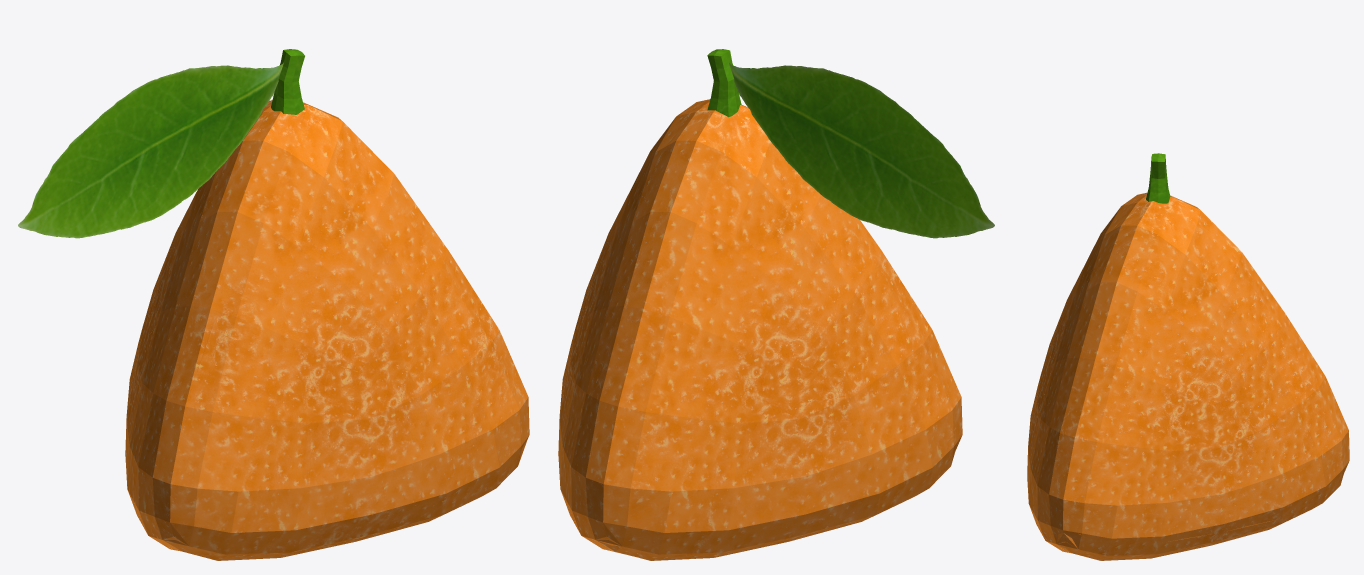
File: TrOrange.fbx
The picture shows the model from 3 angles, left to right: view 1: azimuth 30°, elevation 25°; view 2: azimuth 150°, elevation 25°; view 3: azimuth 270°, elevation 25°; orthographic projection. The views are drawn at different scales.
Parts seen in each view (by area): view 1: TrOrange, TrOrange_leaf, TrOrange_cell.003, TrOrange_cell, TrOrange_cell.002, TrOrange_cell.001; view 2: TrOrange, TrOrange_cell, TrOrange_leaf, TrOrange_cell.003; view 3: TrOrange, TrOrange_cell.002, TrOrange_cell, TrOrange_cell.001, TrOrange_leaf.
Boxes of the visible parts, x1=… form: TrOrange: x1=125, y1=100, x2=529, y2=560; TrOrange_leaf: x1=18, y1=49, x2=304, y2=238; TrOrange_cell.003: x1=127, y1=314, x2=278, y2=560; TrOrange_cell: x1=133, y1=140, x2=322, y2=364; TrOrange_cell.002: x1=319, y1=160, x2=480, y2=369; TrOrange_cell.001: x1=296, y1=361, x2=527, y2=541; TrOrange: x1=558, y1=99, x2=962, y2=560; TrOrange_cell: x1=571, y1=140, x2=874, y2=556; TrOrange_leaf: x1=707, y1=49, x2=994, y2=238; TrOrange_cell.003: x1=693, y1=273, x2=962, y2=553; TrOrange: x1=1027, y1=192, x2=1349, y2=560; TrOrange_cell.002: x1=1049, y1=249, x2=1272, y2=541; TrOrange_cell: x1=1098, y1=210, x2=1349, y2=502; TrOrange_cell.001: x1=1027, y1=371, x2=1267, y2=560; TrOrange_leaf: x1=1146, y1=153, x2=1170, y2=203.
Bounding box in the file's own units: 11.15 × 12.51 × 8.5.
